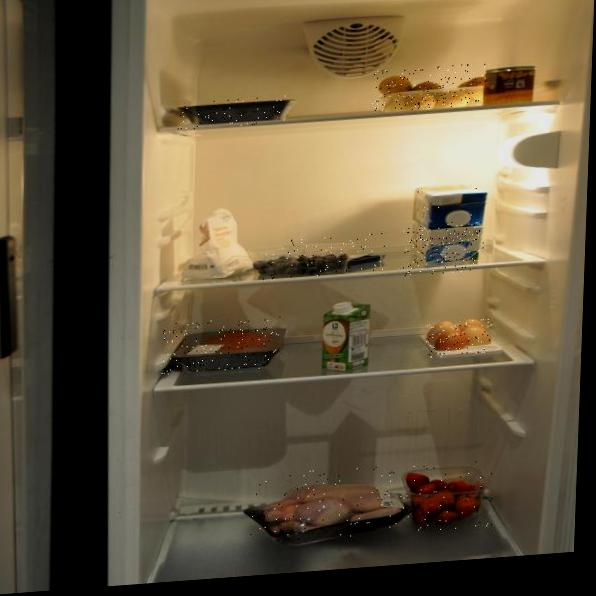chicken: (250, 464, 401, 544)
eggs: (426, 317, 494, 358)
meat: (162, 315, 281, 376), (178, 95, 287, 130)
milk: (402, 221, 484, 276), (411, 178, 487, 234)
olive: (261, 233, 385, 280)
potatoes: (372, 63, 486, 113)
tomatoes: (393, 457, 495, 534)
